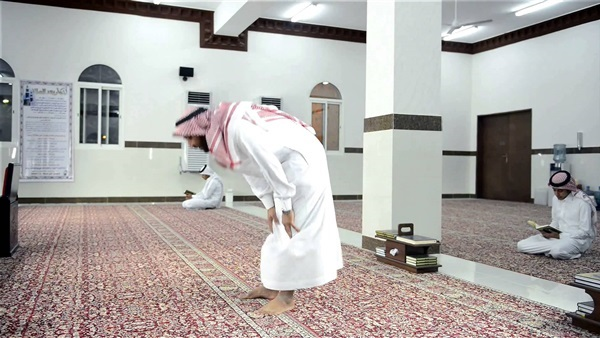ruku: (165, 86, 358, 318)
